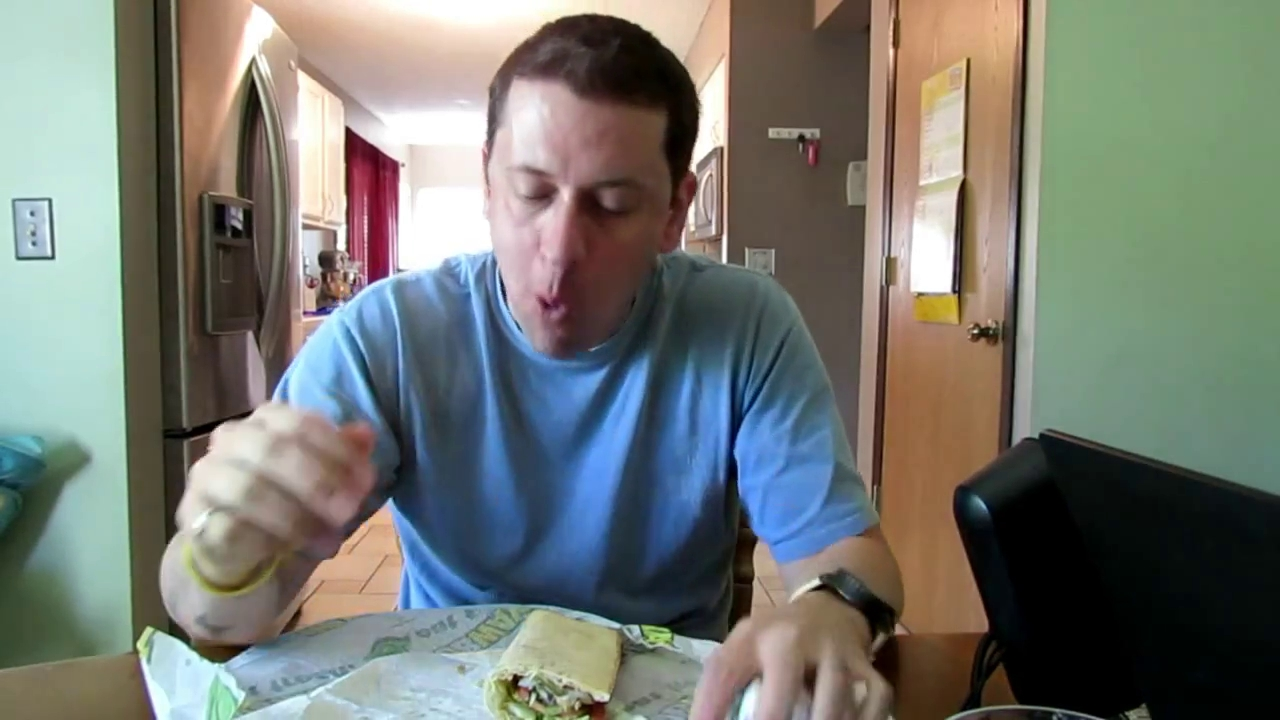person: (159, 15, 905, 720)
